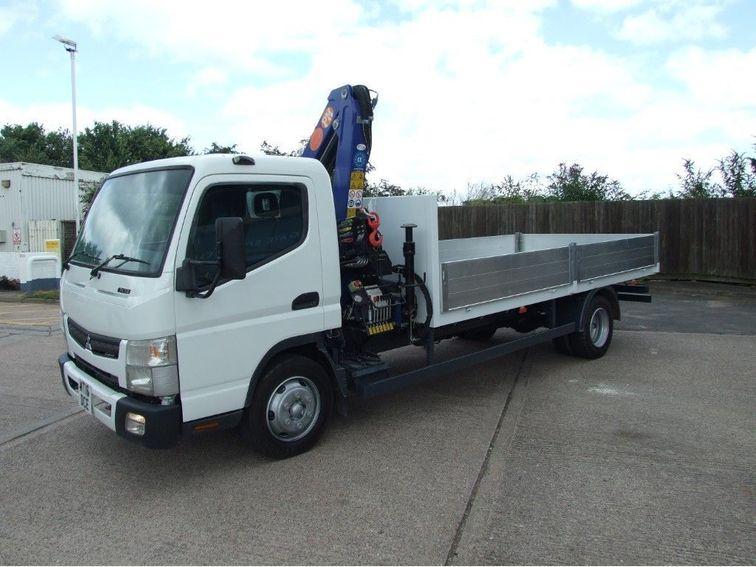Semi: (59, 153, 660, 460)
